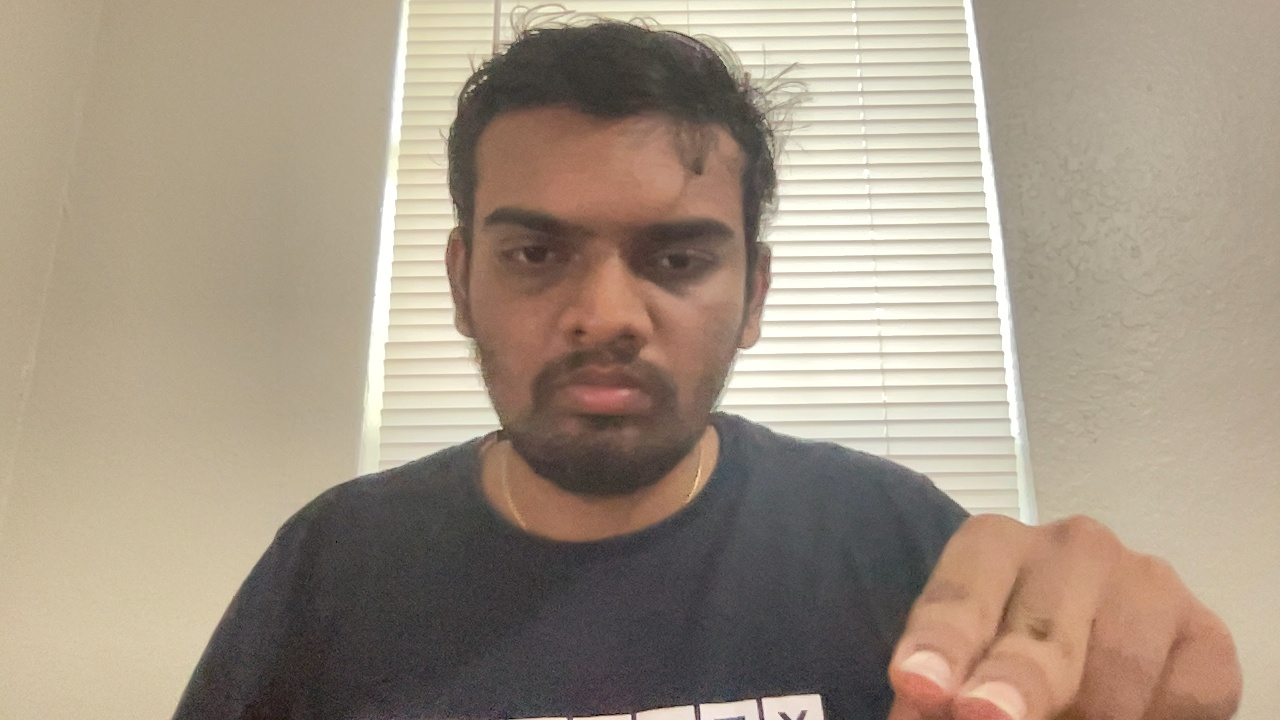no: (898, 508, 1245, 720)
